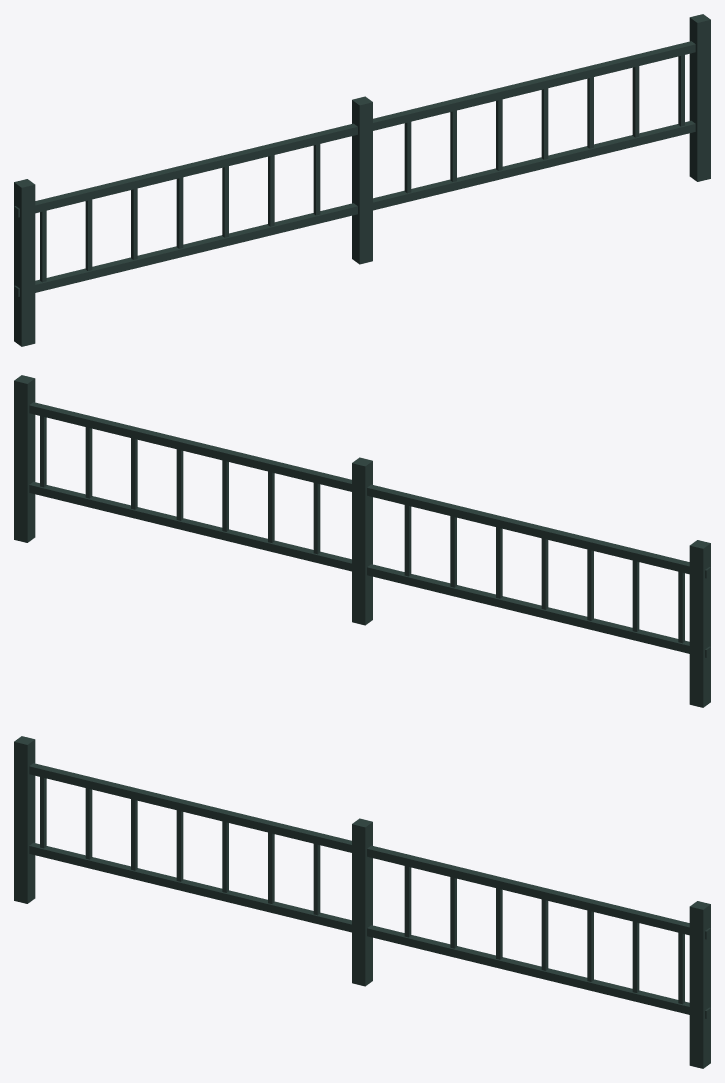
The model's file is LowRailing.obj.
3 views of the same model, one above another, from view 1: azimuth 30°, elevation 25°; view 2: azimuth 150°, elevation 25°; view 3: azimuth 330°, elevation 25° (orthographic).
Visible parts, largest first — view 1: LowRailing; view 2: LowRailing; view 3: LowRailing.
Part boxes in pixels (x1,y1,x2,y2): LowRailing: (14, 14, 710, 346); LowRailing: (14, 375, 710, 707); LowRailing: (14, 736, 710, 1068).
Size of the model in its own units: 4.1 by 0.9 by 0.08.
1 material, 1 textured.
